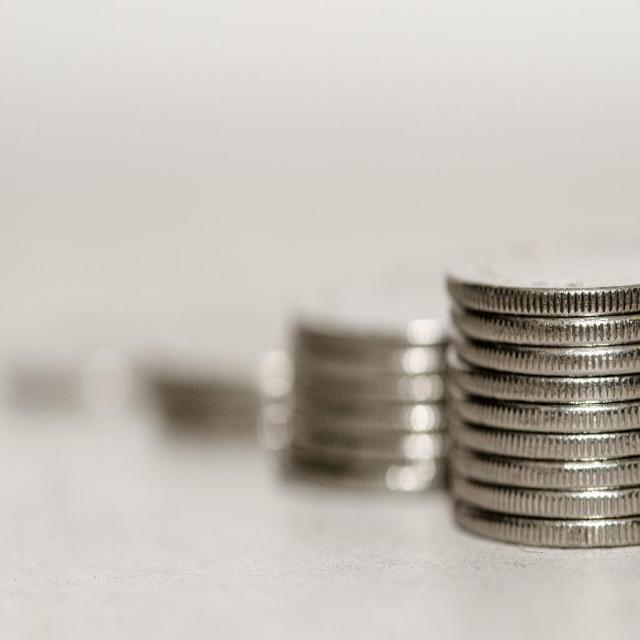Coin: (152, 264, 640, 544)
